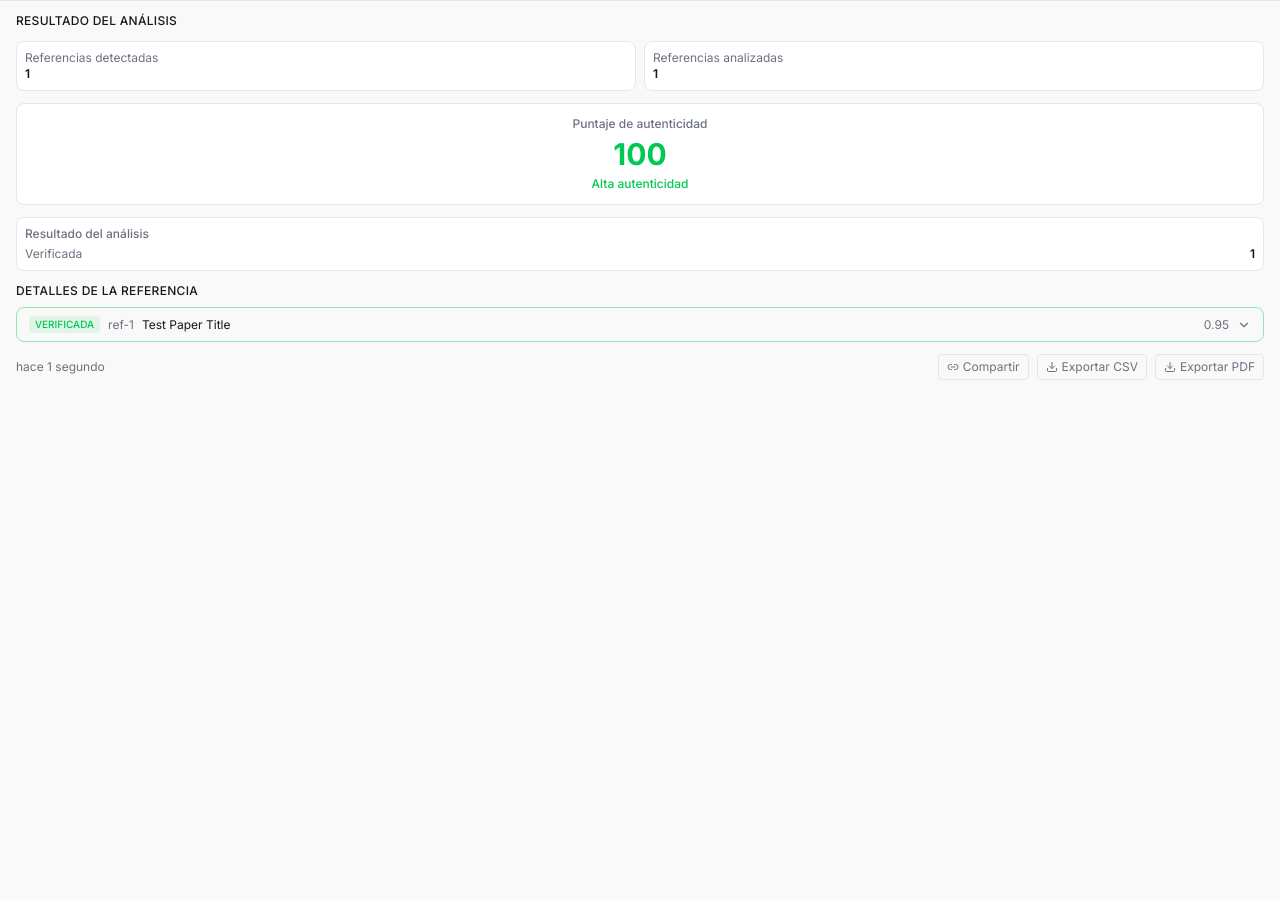
ExpandedDetail — section headings per locale › shows 'Campos normalizados' for normalized fields in Spanish
The width and height of the screenshot is (1280, 900).
What coordinates should you click on to do the following:
click the button "Verificada ref-1 Test Paper Title 0.95"
I would click on:
 (65, 325)
Its box is [17,308,1263,341].
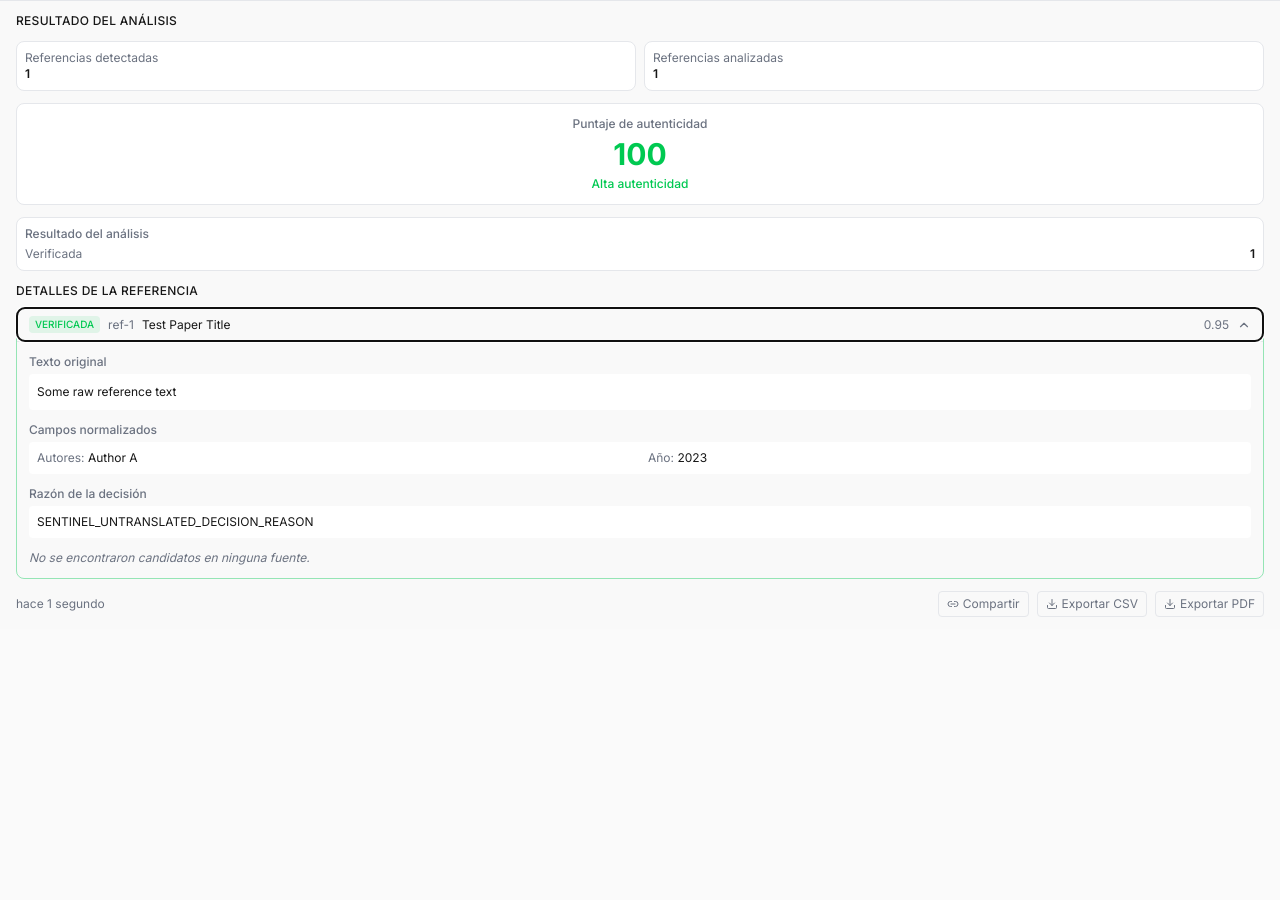
Check: the text "Campos normalizados" is shown, box [29,422,157,437]
